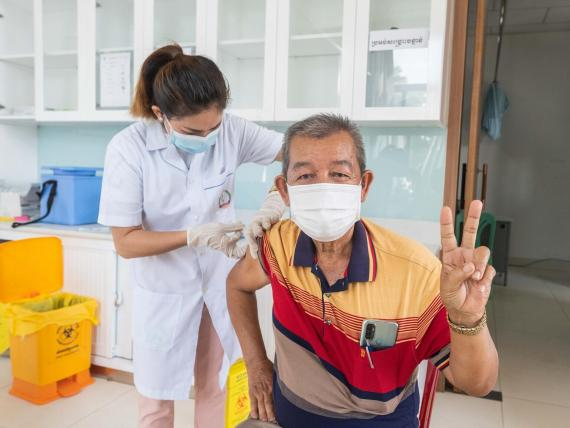with_mask: (287, 136, 367, 246), (156, 79, 223, 161)
